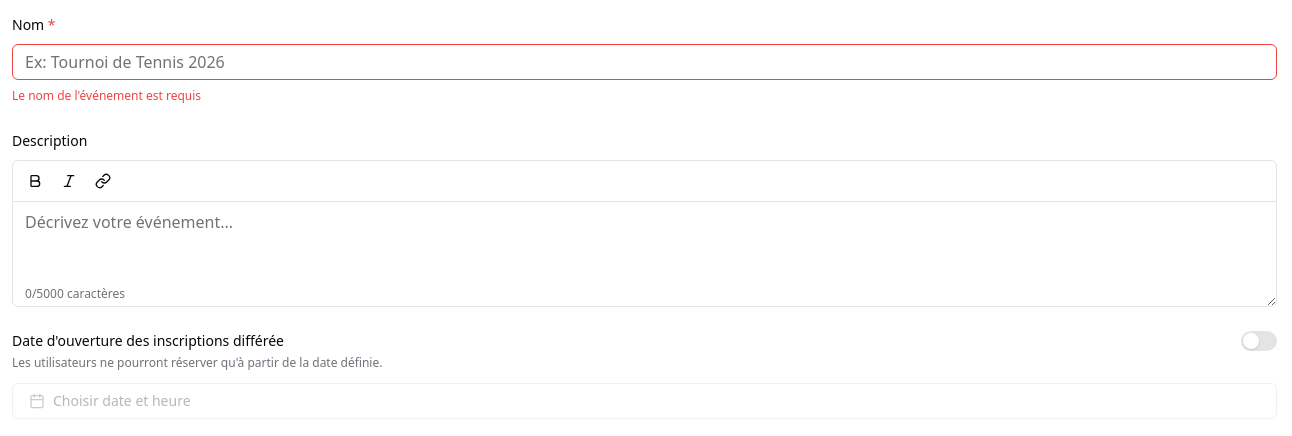
Test case: EventForm › should hide validation error when user types in name field
Check: the message "Le nom de l'événement est requis" is shown, box [12,87,201,104]
# Type in name field
In the field labelled "Nom *": (644, 62) [12,44,1277,80], type "Test"
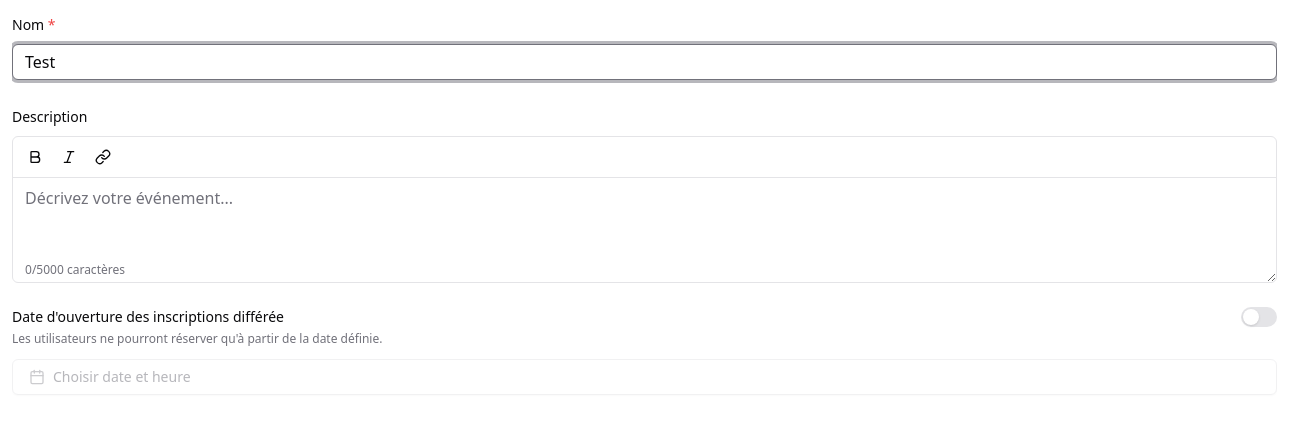
Check: the message "Le nom de l'événement est requis" is gone
